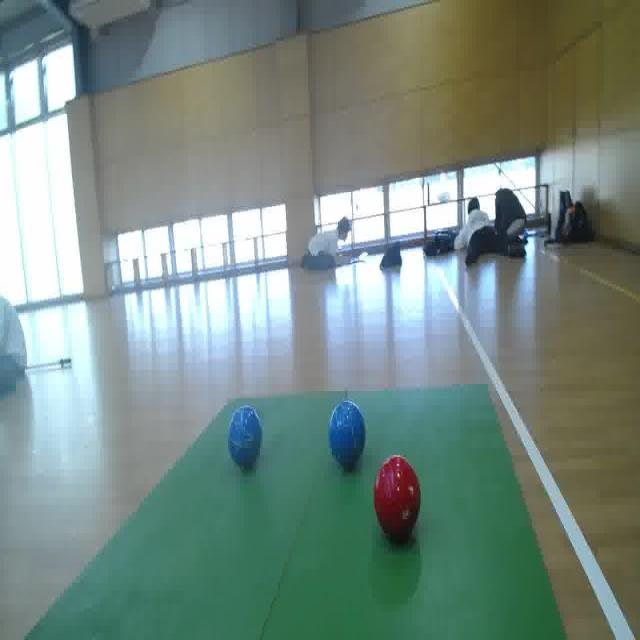blue_ball: (327, 397, 367, 473), (226, 402, 264, 471)
red_ball: (373, 452, 422, 542)
